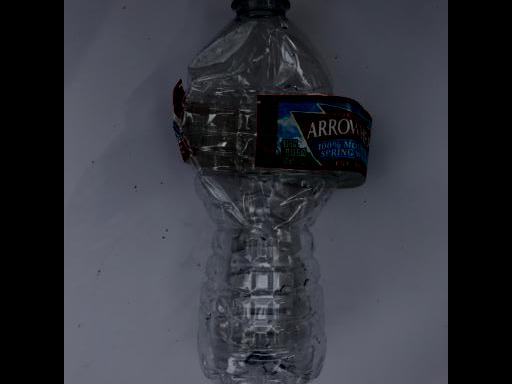bottle: (155, 0, 388, 384)
